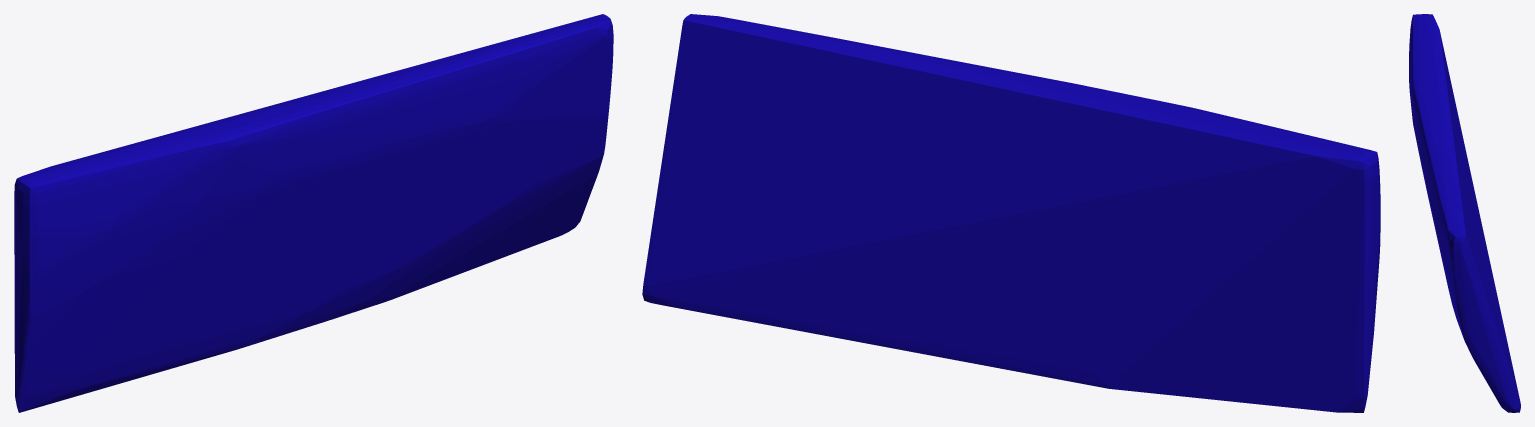
File: right-elbow-0_part_5.obj
3 views of the same model, side by side, from view 1: azimuth 30°, elevation 25°; view 2: azimuth 150°, elevation 25°; view 3: azimuth 270°, elevation 25° (orthographic). The views are drawn at different scales.
Bounding box in the file's own units: 0.0556 × 0.0204 × 0.0116.
